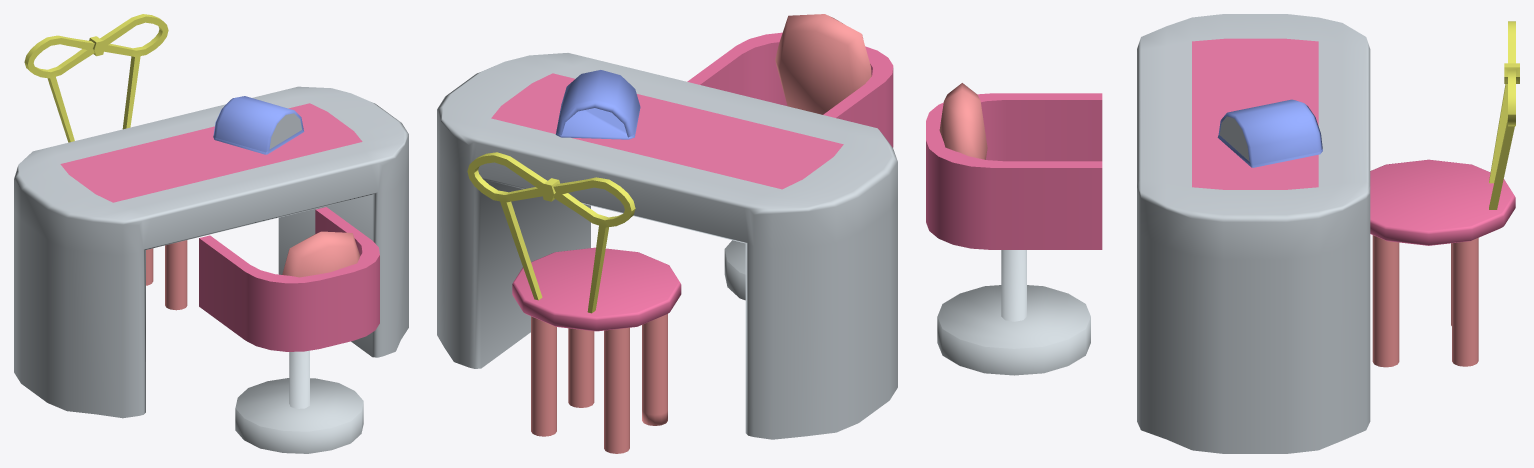
The model's file is VipDesk.fbx.
3 renders of one model, left to right at view 1: azimuth 30°, elevation 25°; view 2: azimuth 150°, elevation 25°; view 3: azimuth 270°, elevation 25°, orthographic. The views are drawn at different scales.
Visible parts, largest first — view 1: Vip_desk; view 2: Vip_desk; view 3: Vip_desk.
Boxes of the visible parts, <box> form: Vip_desk: <box>14,14,408,453</box>; Vip_desk: <box>437,14,897,453</box>; Vip_desk: <box>926,14,1519,453</box>.
Bounding box in the file's own units: 1.92 × 1.28 × 2.33.
